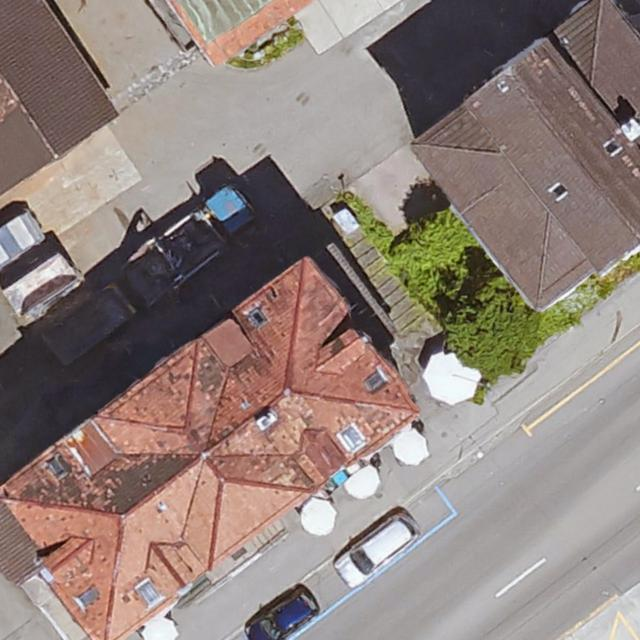tree: (445, 283, 538, 375), (388, 212, 473, 295)
